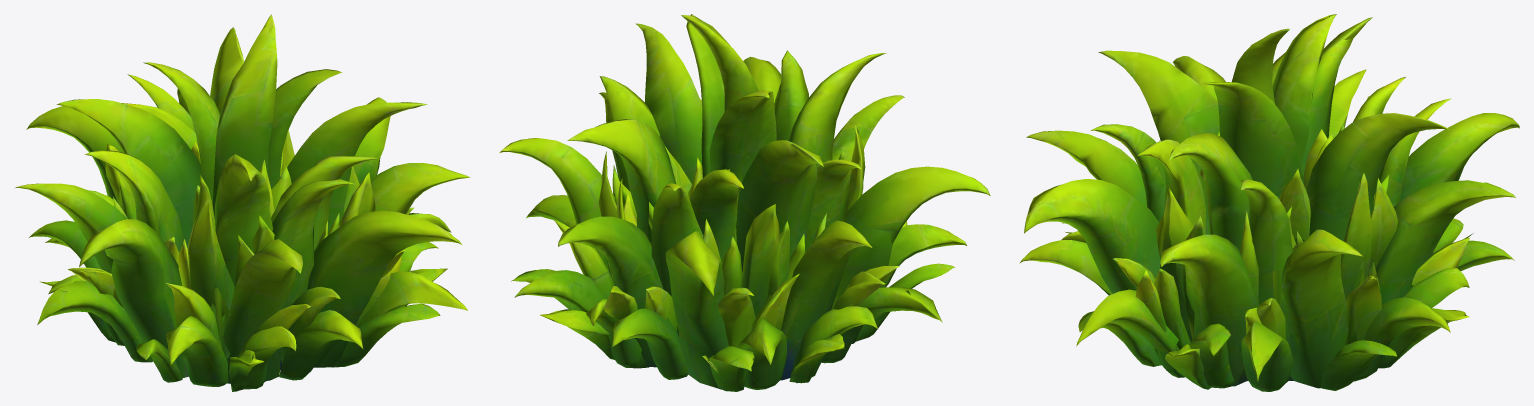
File: bush.glb
3 views of the same model, side by side, from view 1: azimuth 30°, elevation 25°; view 2: azimuth 150°, elevation 25°; view 3: azimuth 270°, elevation 25° (orthographic). The views are drawn at different scales.
Parts seen in each view (by area): view 1: geometry_0; view 2: geometry_0; view 3: geometry_0.
Boxes of the visible parts, x1=… form: geometry_0: x1=14, y1=14, x2=470, y2=391; geometry_0: x1=499, y1=14, x2=990, y2=391; geometry_0: x1=1019, y1=14, x2=1519, y2=391.
Size of the model in its own units: 0.9614 by 0.6895 by 0.9419.
1 material, 1 textured.
